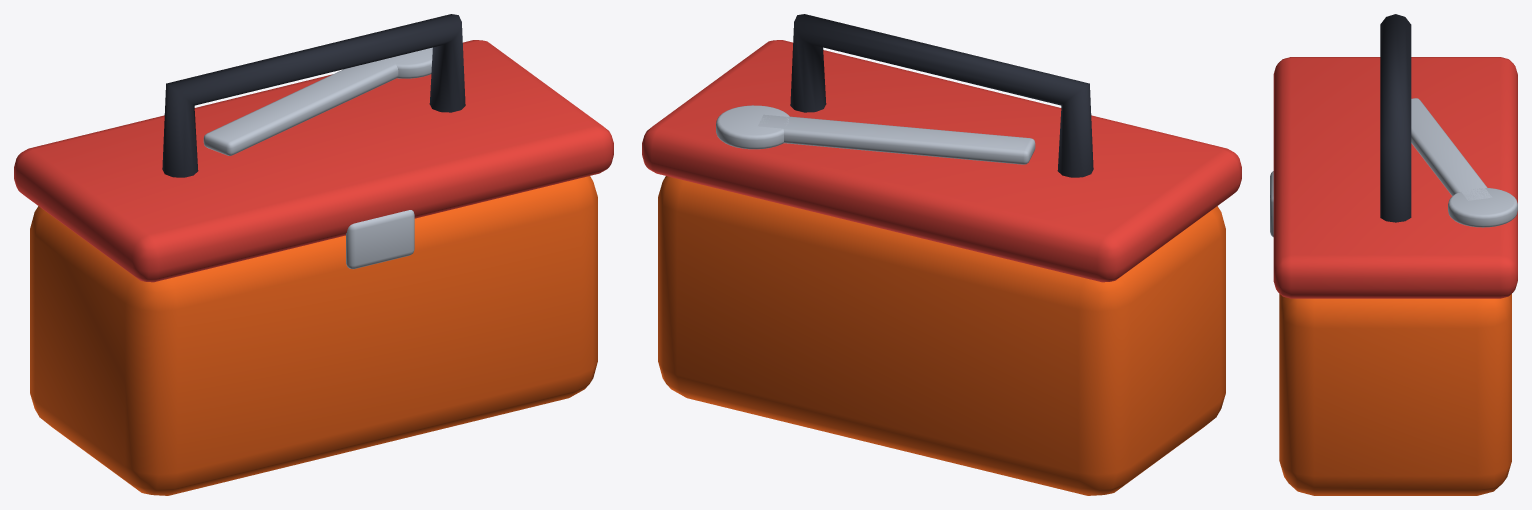
Rendered from Item_Toolbox.glb.
3 views of the same model, side by side, from view 1: azimuth 30°, elevation 25°; view 2: azimuth 150°, elevation 25°; view 3: azimuth 270°, elevation 25° (orthographic). The views are drawn at different scales.
Visible parts, largest first — view 1: Item_Toolbox.Body, Item_Toolbox.Lid, Item_Toolbox.Handle, Item_Toolbox.WrenchBar, Item_Toolbox.Latch, Item_Toolbox.WrenchHead; view 2: Item_Toolbox.Body, Item_Toolbox.Lid, Item_Toolbox.Handle, Item_Toolbox.WrenchBar, Item_Toolbox.WrenchHead; view 3: Item_Toolbox.Lid, Item_Toolbox.Body, Item_Toolbox.Handle, Item_Toolbox.WrenchBar, Item_Toolbox.WrenchHead.
Part boxes in pixels (box(x1,y1,x2,y2)): Item_Toolbox.Body: box(30, 176, 597, 495); Item_Toolbox.Lid: box(14, 40, 613, 282); Item_Toolbox.Handle: box(162, 14, 465, 177); Item_Toolbox.WrenchBar: box(203, 54, 411, 155); Item_Toolbox.Latch: box(346, 210, 414, 269); Item_Toolbox.WrenchHead: box(383, 47, 432, 78); Item_Toolbox.Body: box(658, 176, 1225, 495); Item_Toolbox.Lid: box(642, 40, 1241, 282); Item_Toolbox.Handle: box(790, 14, 1093, 177); Item_Toolbox.WrenchBar: box(758, 114, 1035, 164); Item_Toolbox.WrenchHead: box(716, 105, 789, 149); Item_Toolbox.Lid: box(1273, 57, 1517, 298); Item_Toolbox.Body: box(1279, 294, 1511, 495); Item_Toolbox.Handle: box(1380, 14, 1411, 222); Item_Toolbox.WrenchBar: box(1411, 98, 1492, 200); Item_Toolbox.WrenchHead: box(1448, 188, 1517, 227).
Size of the model in its own units: 0.43 by 0.3099 by 0.213.
